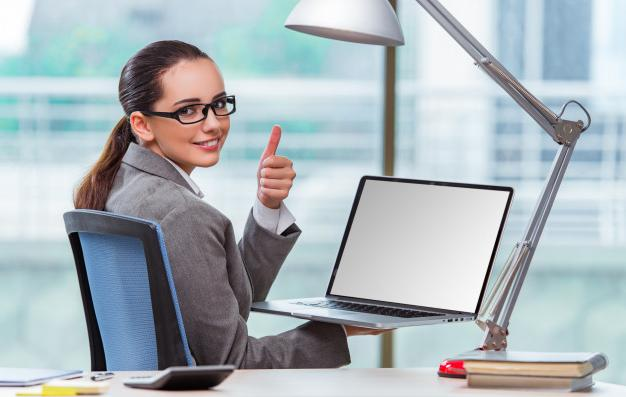thumbsup: (259, 123, 296, 199)
